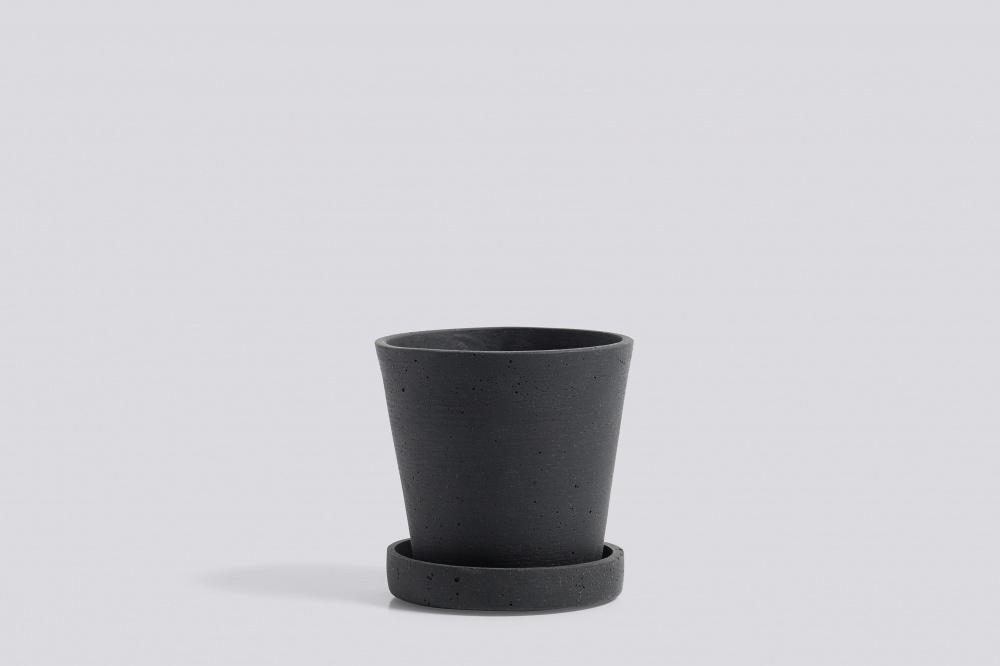flowerpot: (375, 329, 633, 618)
